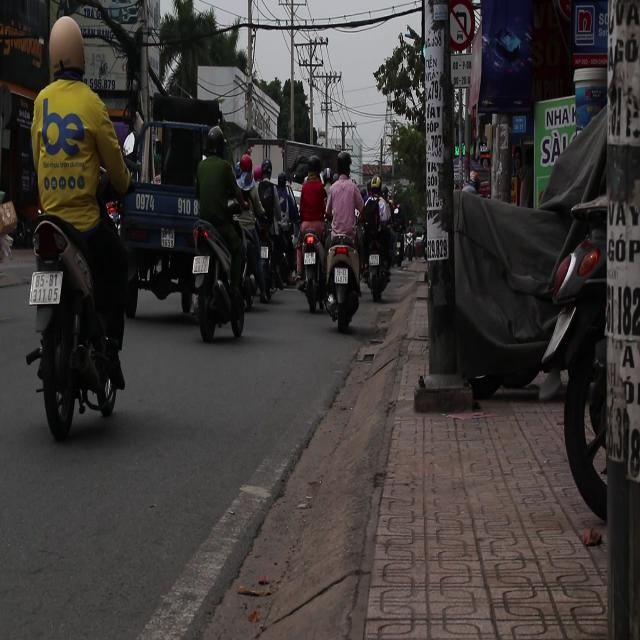motorbike: (24, 209, 124, 440), (191, 218, 248, 343), (324, 221, 364, 333), (294, 220, 330, 312), (235, 212, 269, 304)
truck: (116, 95, 230, 324)
